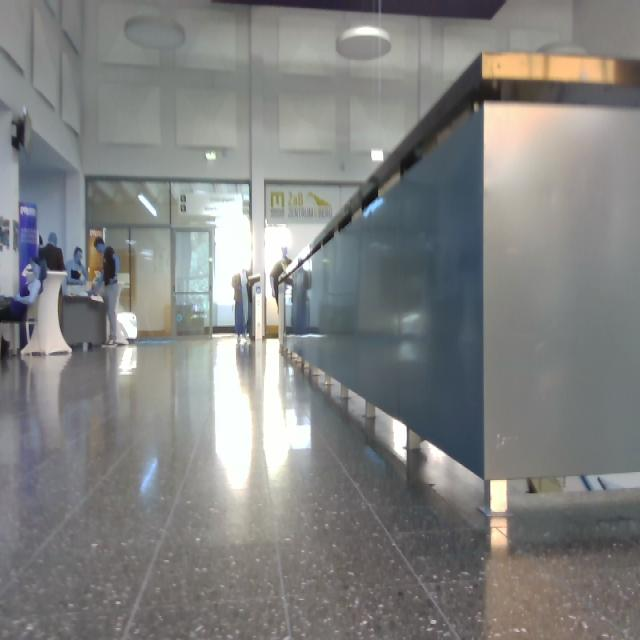banner: (19, 202, 37, 281)
desk: (59, 293, 106, 348)
door: (127, 228, 211, 337)
light bulb: (121, 13, 181, 49), (332, 22, 387, 57), (529, 37, 582, 54), (137, 193, 155, 217)
person: (1, 261, 46, 322), (94, 240, 118, 346), (226, 272, 252, 341), (269, 248, 290, 313), (38, 233, 64, 272), (64, 248, 88, 288)
staircase: (274, 54, 640, 514)
table: (23, 272, 71, 357)
tiled floor: (1, 340, 640, 640)
